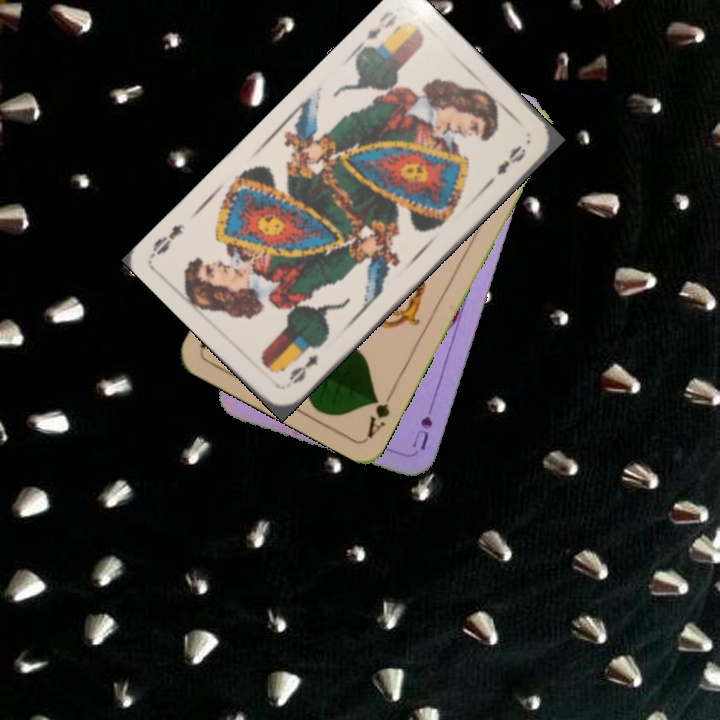EO: (353, 7, 403, 54), (285, 349, 321, 387)
GA: (363, 385, 398, 441)
SU: (408, 395, 438, 453)
